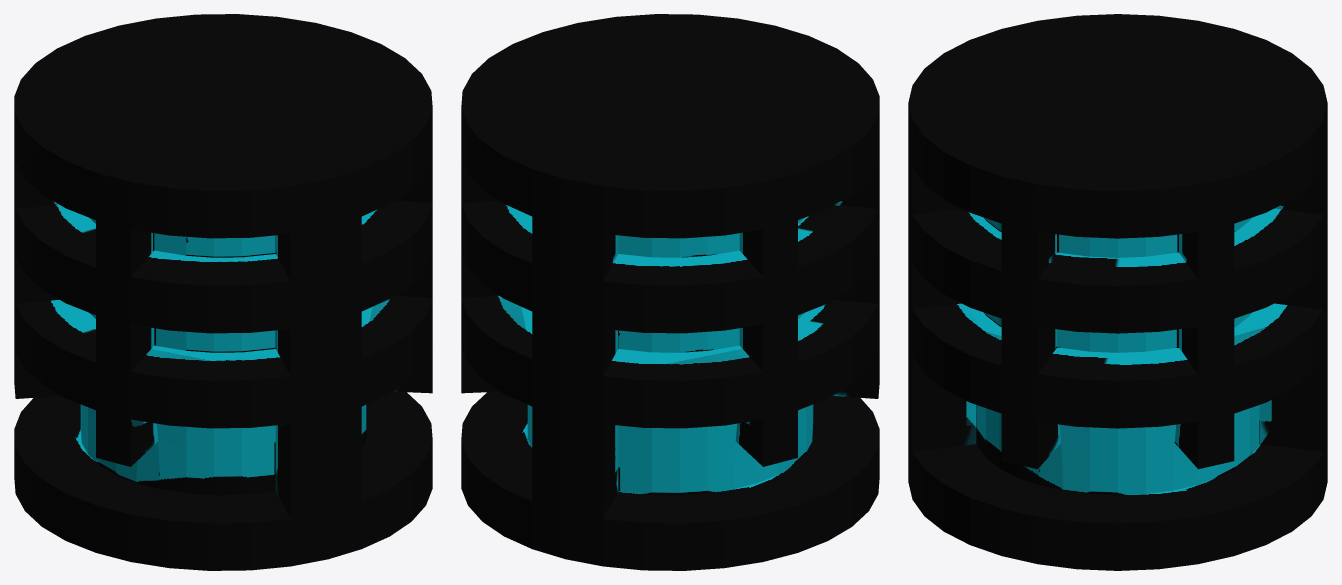
Rendered from PowerCell.fbx.
The picture shows the model from 3 angles, left to right: view 1: azimuth 30°, elevation 25°; view 2: azimuth 150°, elevation 25°; view 3: azimuth 270°, elevation 25°; orthographic projection.
Parts seen in each view (by area): view 1: Cylinder; view 2: Cylinder; view 3: Cylinder.
Part boxes in pixels (x1=…): Cylinder: x1=14, y1=14, x2=432, y2=570; Cylinder: x1=461, y1=14, x2=879, y2=570; Cylinder: x1=908, y1=14, x2=1327, y2=570.
Bounding box in the file's own units: 200 × 200 × 200.
